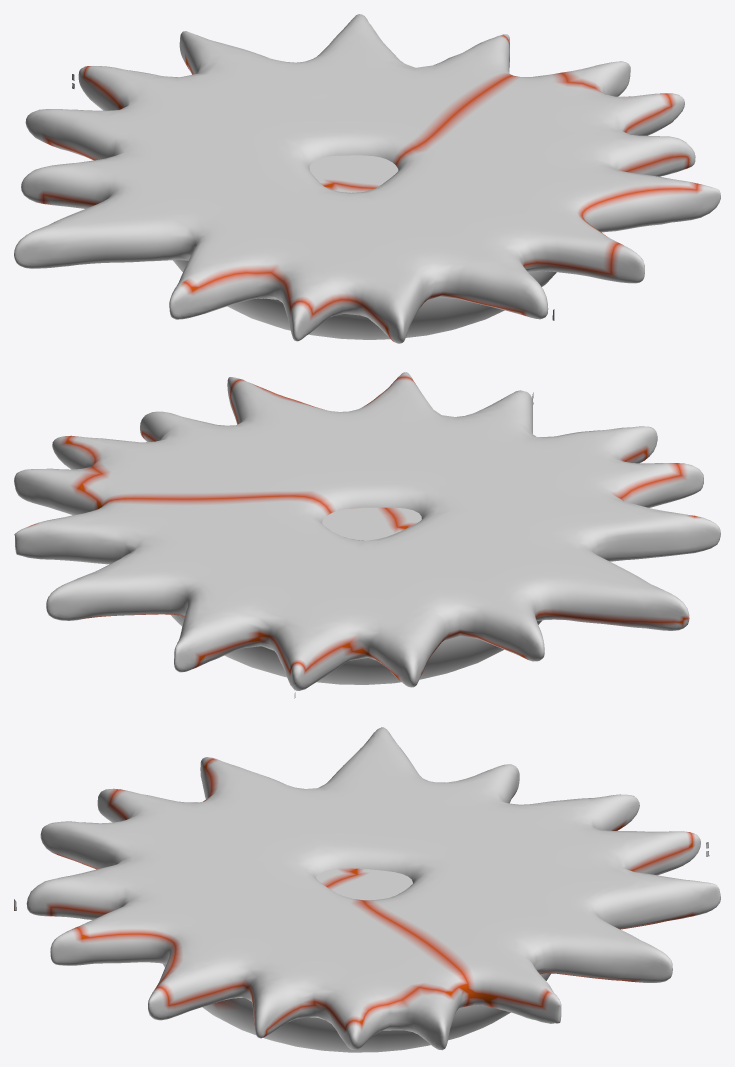
The model's file is Sun.fbx.
3 views of the same model, one above another, from view 1: azimuth 30°, elevation 25°; view 2: azimuth 150°, elevation 25°; view 3: azimuth 270°, elevation 25° (orthographic). The views are drawn at different scales.
Visible parts, largest first — view 1: PM3D_Cube3D1_SeamsColor; view 2: PM3D_Cube3D1_SeamsColor; view 3: PM3D_Cube3D1_SeamsColor.
Part boxes in pixels (x1,y1,x2,y2): PM3D_Cube3D1_SeamsColor: [14, 14, 720, 343]; PM3D_Cube3D1_SeamsColor: [14, 372, 720, 698]; PM3D_Cube3D1_SeamsColor: [14, 727, 720, 1052].
Bounding box in the file's own units: 3.5 × 0.7322 × 3.39.
